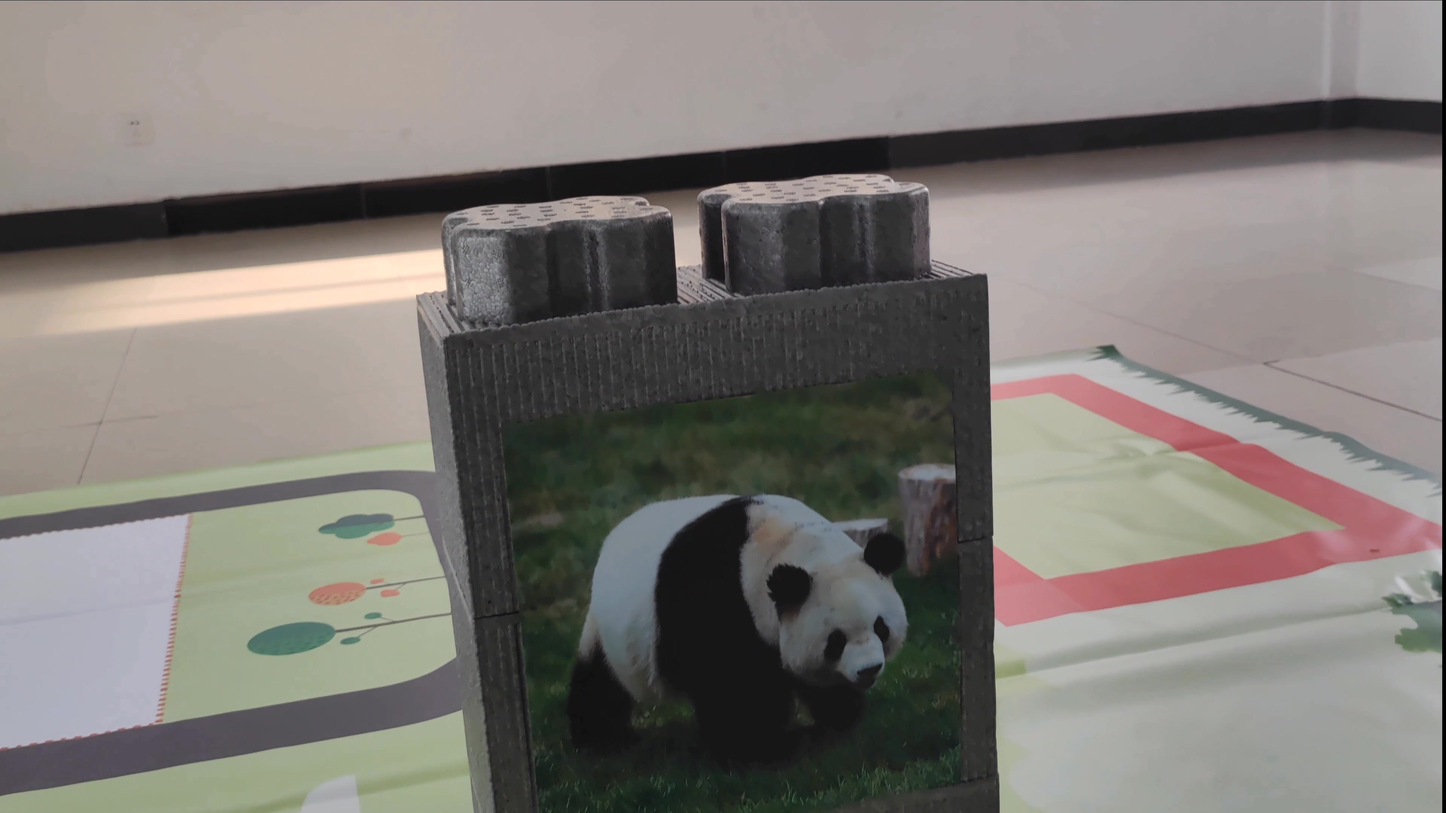panda: (541, 462, 943, 763)
